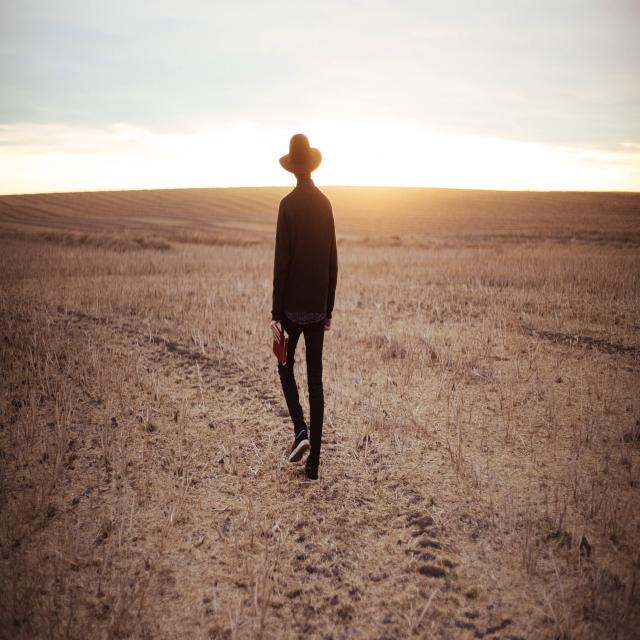adult: (268, 133, 339, 483)
